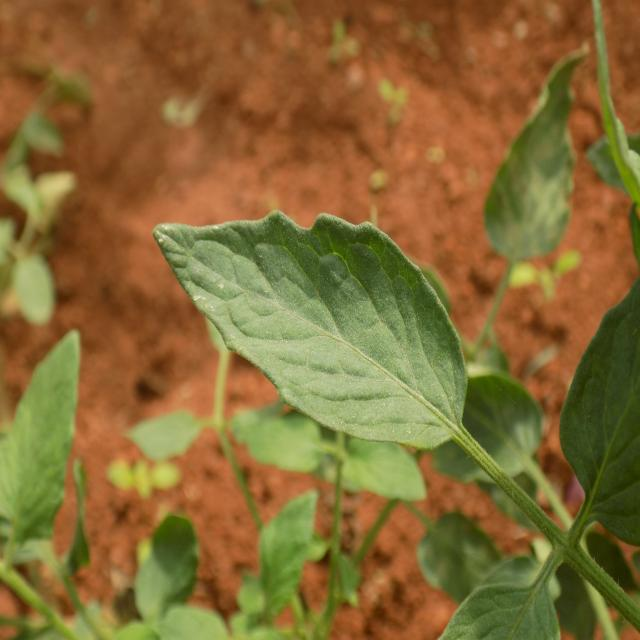tomato_healthy: (156, 214, 464, 449), (486, 40, 579, 262)
